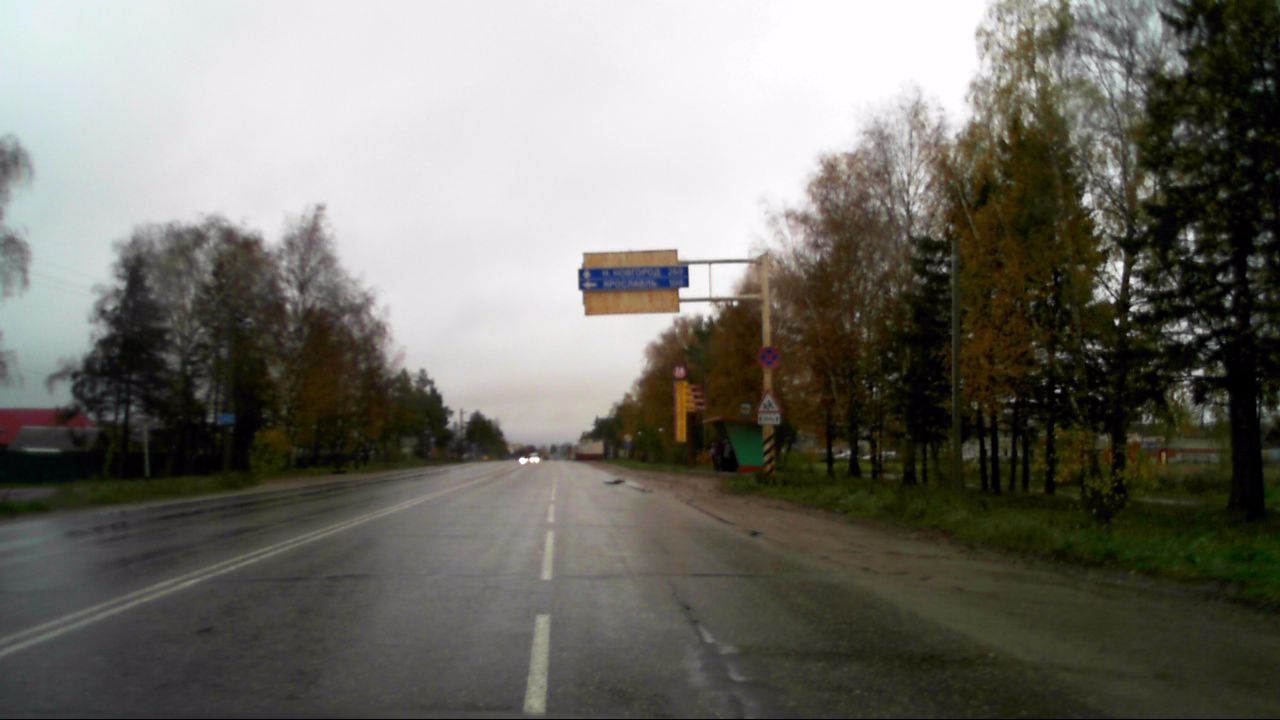No Parking: (755, 345, 782, 370)
